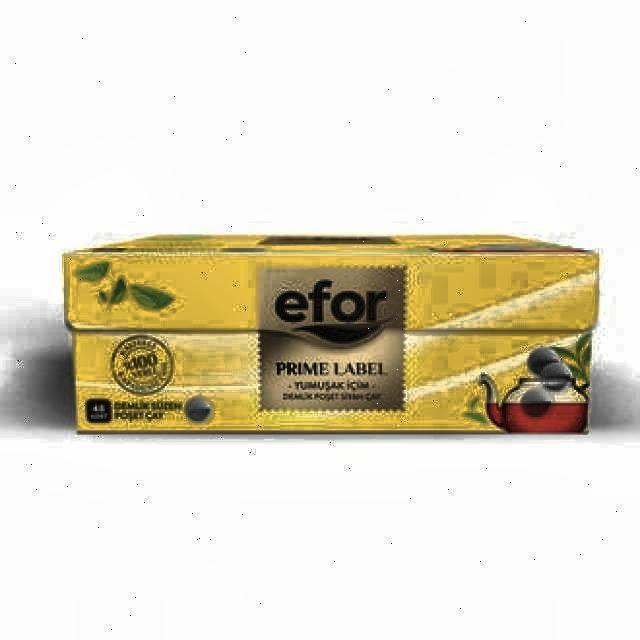cardboard: (60, 232, 601, 437)
